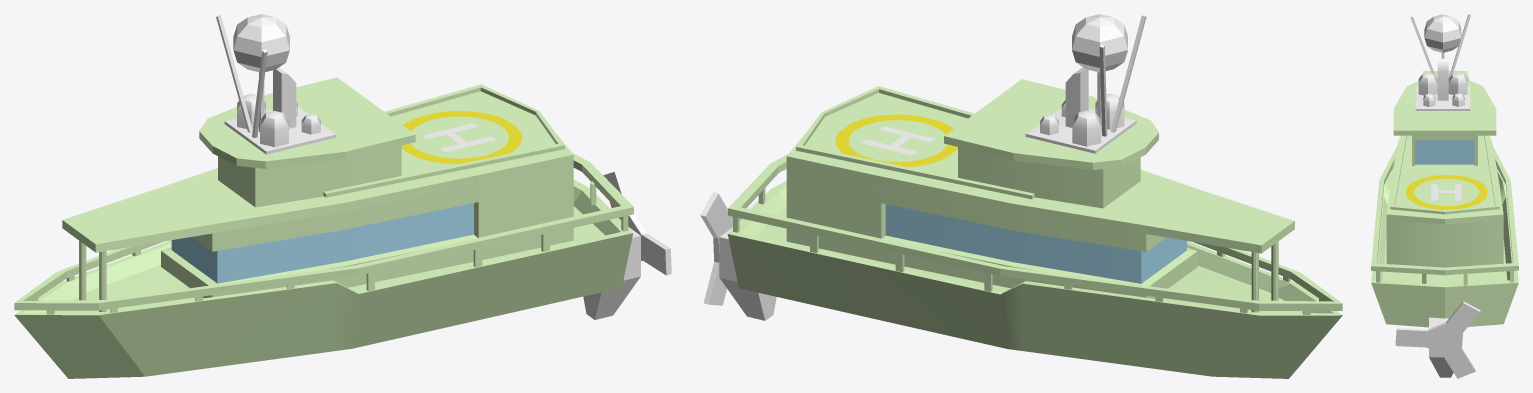
File: yacht_helipad.obj
3 renders of one model, left to right at view 1: azimuth 30°, elevation 25°; view 2: azimuth 150°, elevation 25°; view 3: azimuth 270°, elevation 25°, orthographic. The views are drawn at different scales.
Visible parts, largest first — view 1: polySurface1; view 2: polySurface1; view 3: polySurface1.
Part boxes in pixels (x1=…): polySurface1: x1=14, y1=14, x2=671, y2=378; polySurface1: x1=700, y1=14, x2=1342, y2=378; polySurface1: x1=1371, y1=14, x2=1518, y2=378.
Bounding box in the file's own units: 28.66 × 16.87 × 9.05.
